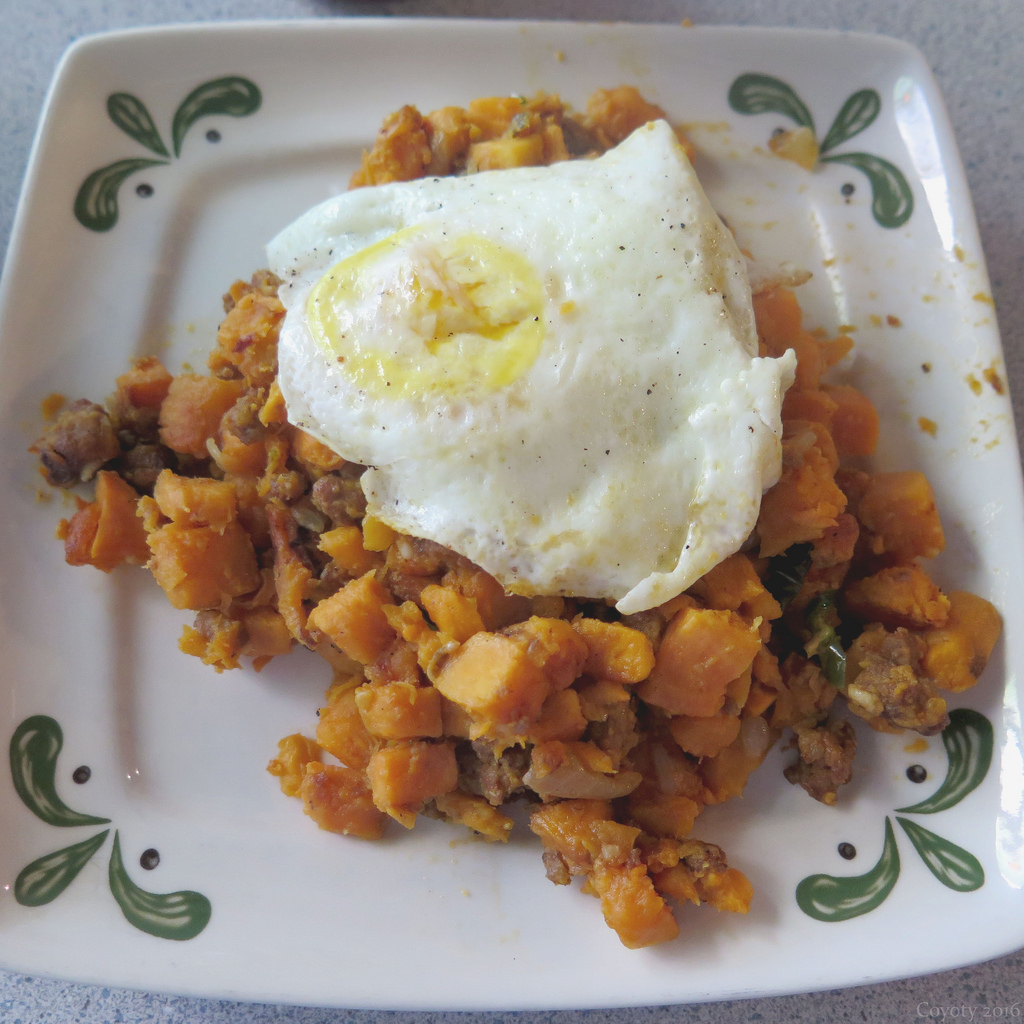fried egg: (273, 176, 781, 573)
